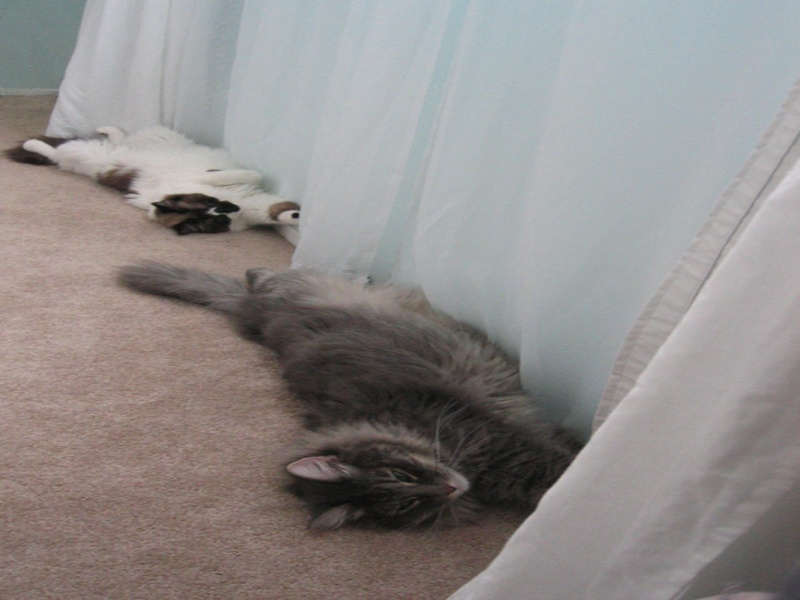cat: (112, 254, 567, 538), (19, 116, 299, 232)
